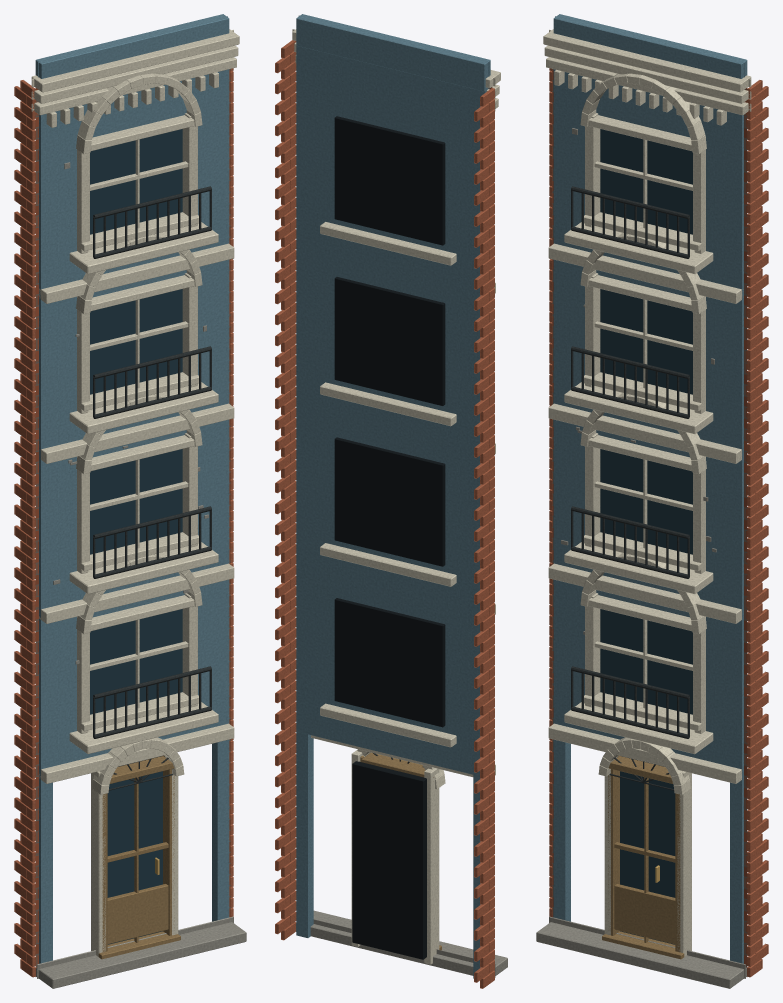
File: OFFC1_lod0.glb
3 renders of one model, left to right at view 1: azimuth 30°, elevation 25°; view 2: azimuth 150°, elevation 25°; view 3: azimuth 330°, elevation 25°, orthographic.
Parts seen in each view (by area): view 1: OFFC1_FRONT_LOD0; view 2: OFFC1_FRONT_LOD0; view 3: OFFC1_FRONT_LOD0.
Boxes of the visible parts, bbox=[...] form: OFFC1_FRONT_LOD0: bbox=[14, 14, 246, 988]; OFFC1_FRONT_LOD0: bbox=[275, 14, 507, 988]; OFFC1_FRONT_LOD0: bbox=[536, 14, 768, 988].
Bounding box in the file's own units: 3.44 × 14.86 × 1.13.
13 materials, 10 textured.
